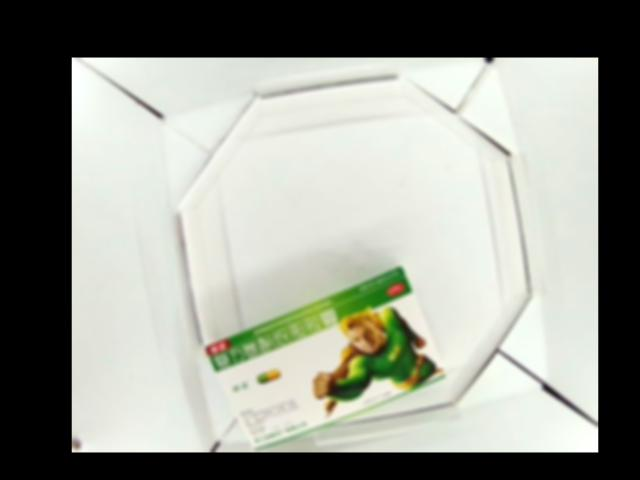Medicine: (200, 264, 447, 450)
